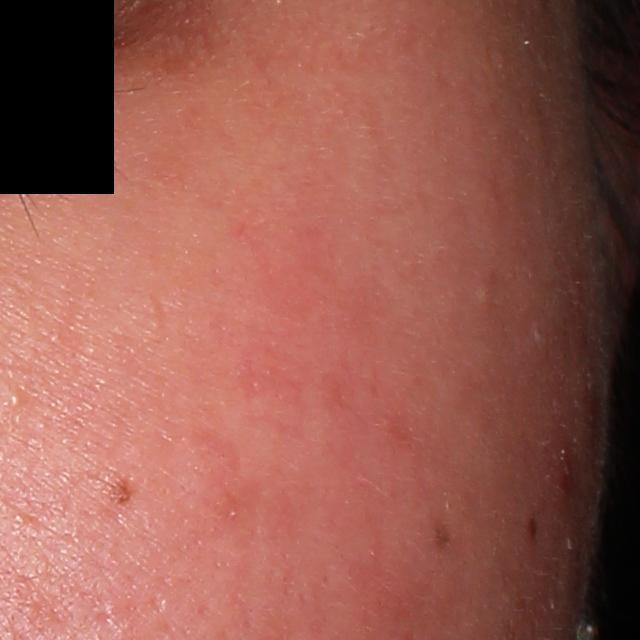comedo: (3, 387, 30, 410)
nevus: (110, 482, 141, 505), (520, 512, 538, 547), (434, 522, 454, 552)
